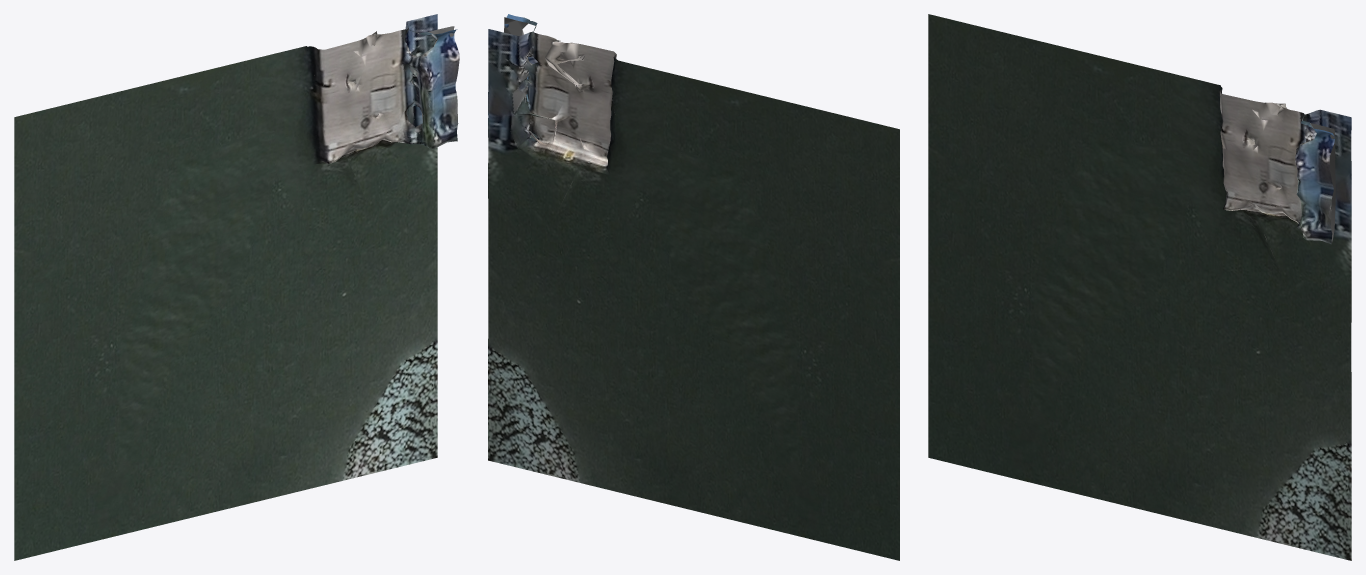
The model's file is Tile_+029_+018_L21_0031100.fbx.
3 views of the same model, side by side, from view 1: azimuth 30°, elevation 25°; view 2: azimuth 150°, elevation 25°; view 3: azimuth 330°, elevation 25° (orthographic). The views are drawn at different scales.
Parts seen in each view (by area): view 1: DefaultName; view 2: DefaultName; view 3: DefaultName.
Part boxes in pixels (<box>): DefaultName: <box>14,14,459,560</box>; DefaultName: <box>488,14,899,560</box>; DefaultName: <box>928,14,1351,560</box>.
Bounding box in the file's own units: 31.31 × 31.38 × 3.09.
1 material, 1 textured.
